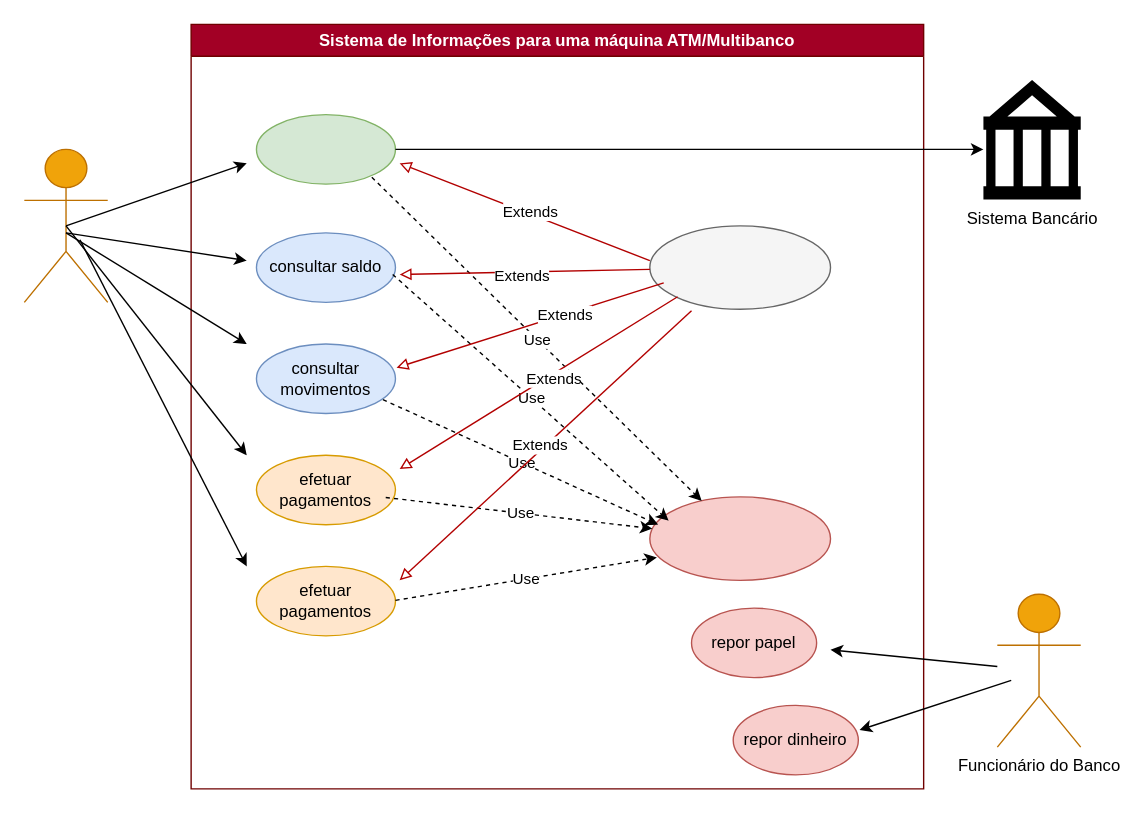
This 1144x813 diagram has some shape labels left out. The shapes that lost their labels are listed below. From the top down, each one's centre as x and y in pixels, then its label:
(325,148): levantar dinheiro
(65,225): Cliente
(739,266): emitir talão
(739,538): colocar PIN
